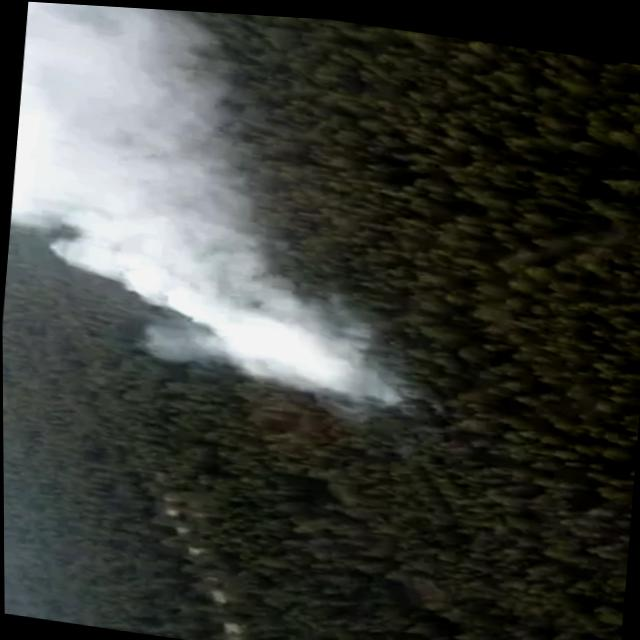no_helmet: (0, 0, 427, 428)
